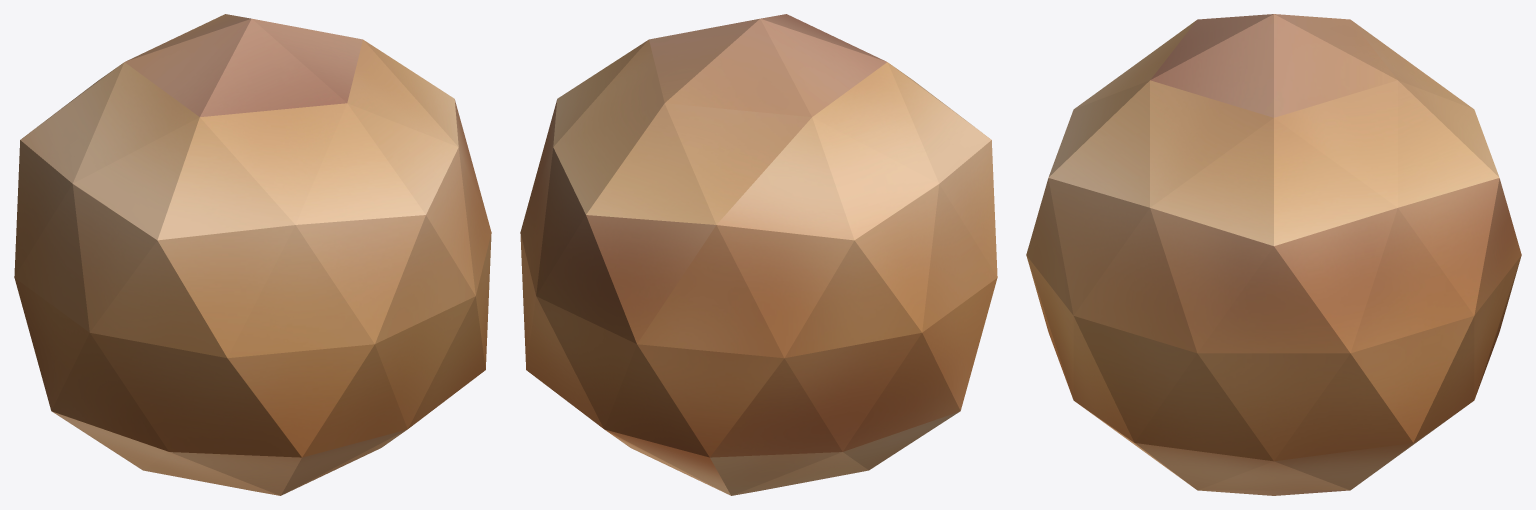
The model's file is jupiter.fbx.
The picture shows the model from 3 angles, left to right: view 1: azimuth 30°, elevation 25°; view 2: azimuth 150°, elevation 25°; view 3: azimuth 270°, elevation 25°; orthographic projection.
Parts seen in each view (by area): view 1: pSolid1; view 2: pSolid1; view 3: pSolid1.
Boxes of the visible parts, bbox=[...] form: pSolid1: bbox=[14, 14, 491, 495]; pSolid1: bbox=[520, 14, 997, 495]; pSolid1: bbox=[1026, 14, 1521, 495].
Size of the model in its own units: 16.52 by 18.53 by 17.3.
